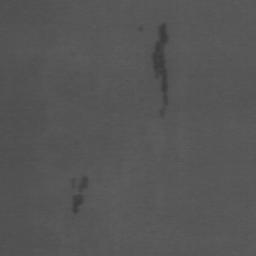Iron scale compression: (154, 23, 168, 118), (69, 176, 88, 191), (71, 194, 84, 215)
